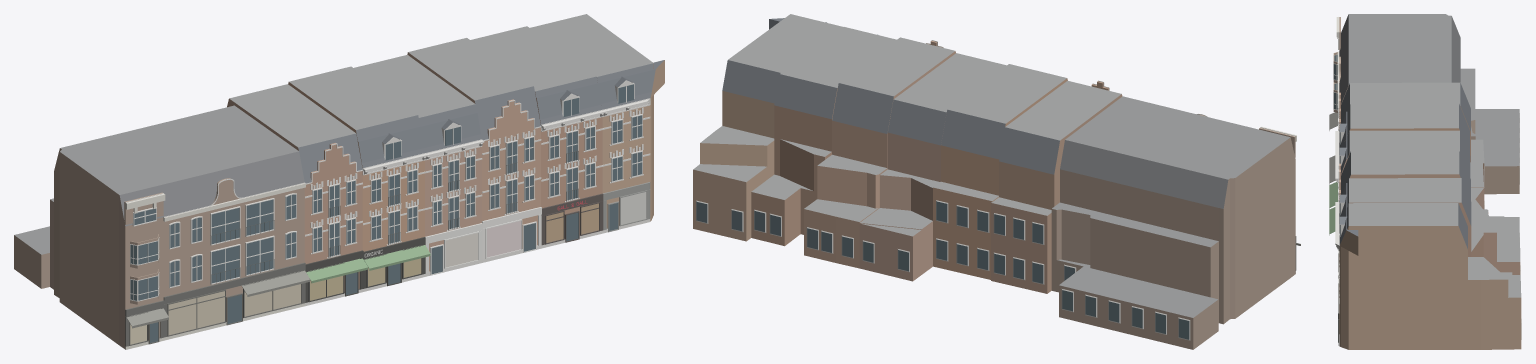
Rendered from chunk-face-schuyt-18-34.glb.
The picture shows the model from 3 angles, left to right: view 1: azimuth 30°, elevation 25°; view 2: azimuth 150°, elevation 25°; view 3: azimuth 270°, elevation 25°; orthographic projection. The views are drawn at different scales.
Parts seen in each view (by area): view 1: face-schuyt-18-34; view 2: face-schuyt-18-34; view 3: face-schuyt-18-34.
Boxes of the visible parts, bbox=[...] form: face-schuyt-18-34: bbox=[14, 14, 664, 349]; face-schuyt-18-34: bbox=[693, 14, 1300, 349]; face-schuyt-18-34: bbox=[1329, 14, 1521, 349].
Size of the model in its own units: 51.79 by 14.07 by 19.14.
